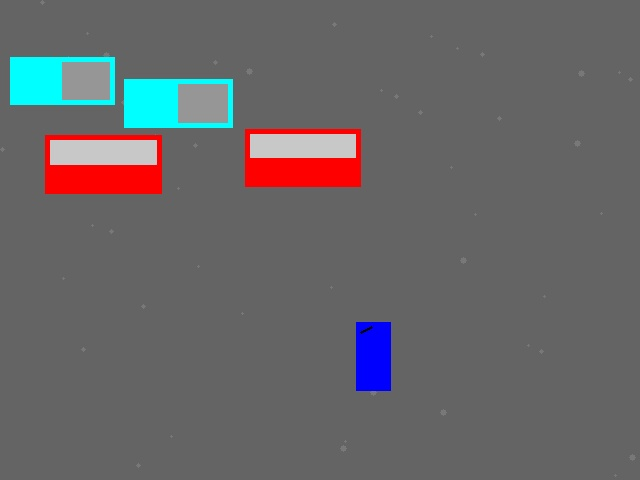car: (45, 135, 161, 193), (245, 129, 360, 186)
motorcycle: (356, 322, 390, 390)
truck: (124, 79, 232, 127), (10, 57, 114, 104)
